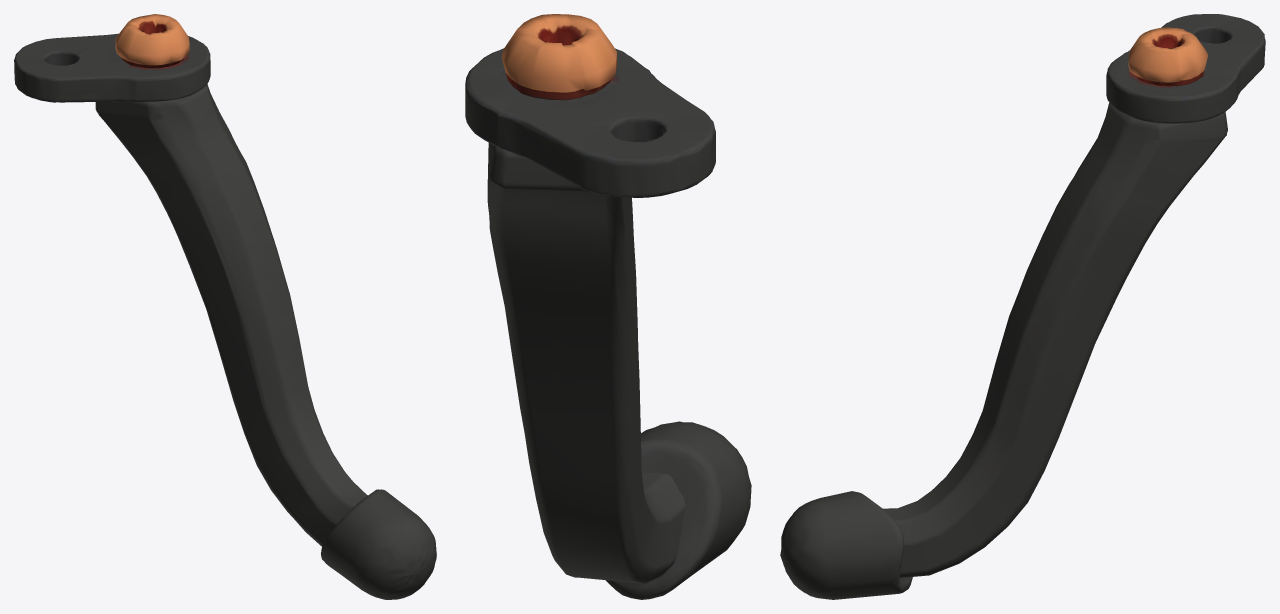
File: landing-skid.glb
The picture shows the model from 3 angles, left to right: view 1: azimuth 30°, elevation 25°; view 2: azimuth 150°, elevation 25°; view 3: azimuth 270°, elevation 25°; orthographic projection. The views are drawn at different scales.
Visible parts, largest first — view 1: Landing skid; view 2: Landing skid; view 3: Landing skid.
Boxes of the visible parts, x1,y1,x2,y2 form: Landing skid: (14,14,436,599); Landing skid: (465,14,751,599); Landing skid: (780,14,1265,599).
Bounding box in the file's own units: 0.5137 × 0.998 × 0.8574.
1 material, 1 textured.
